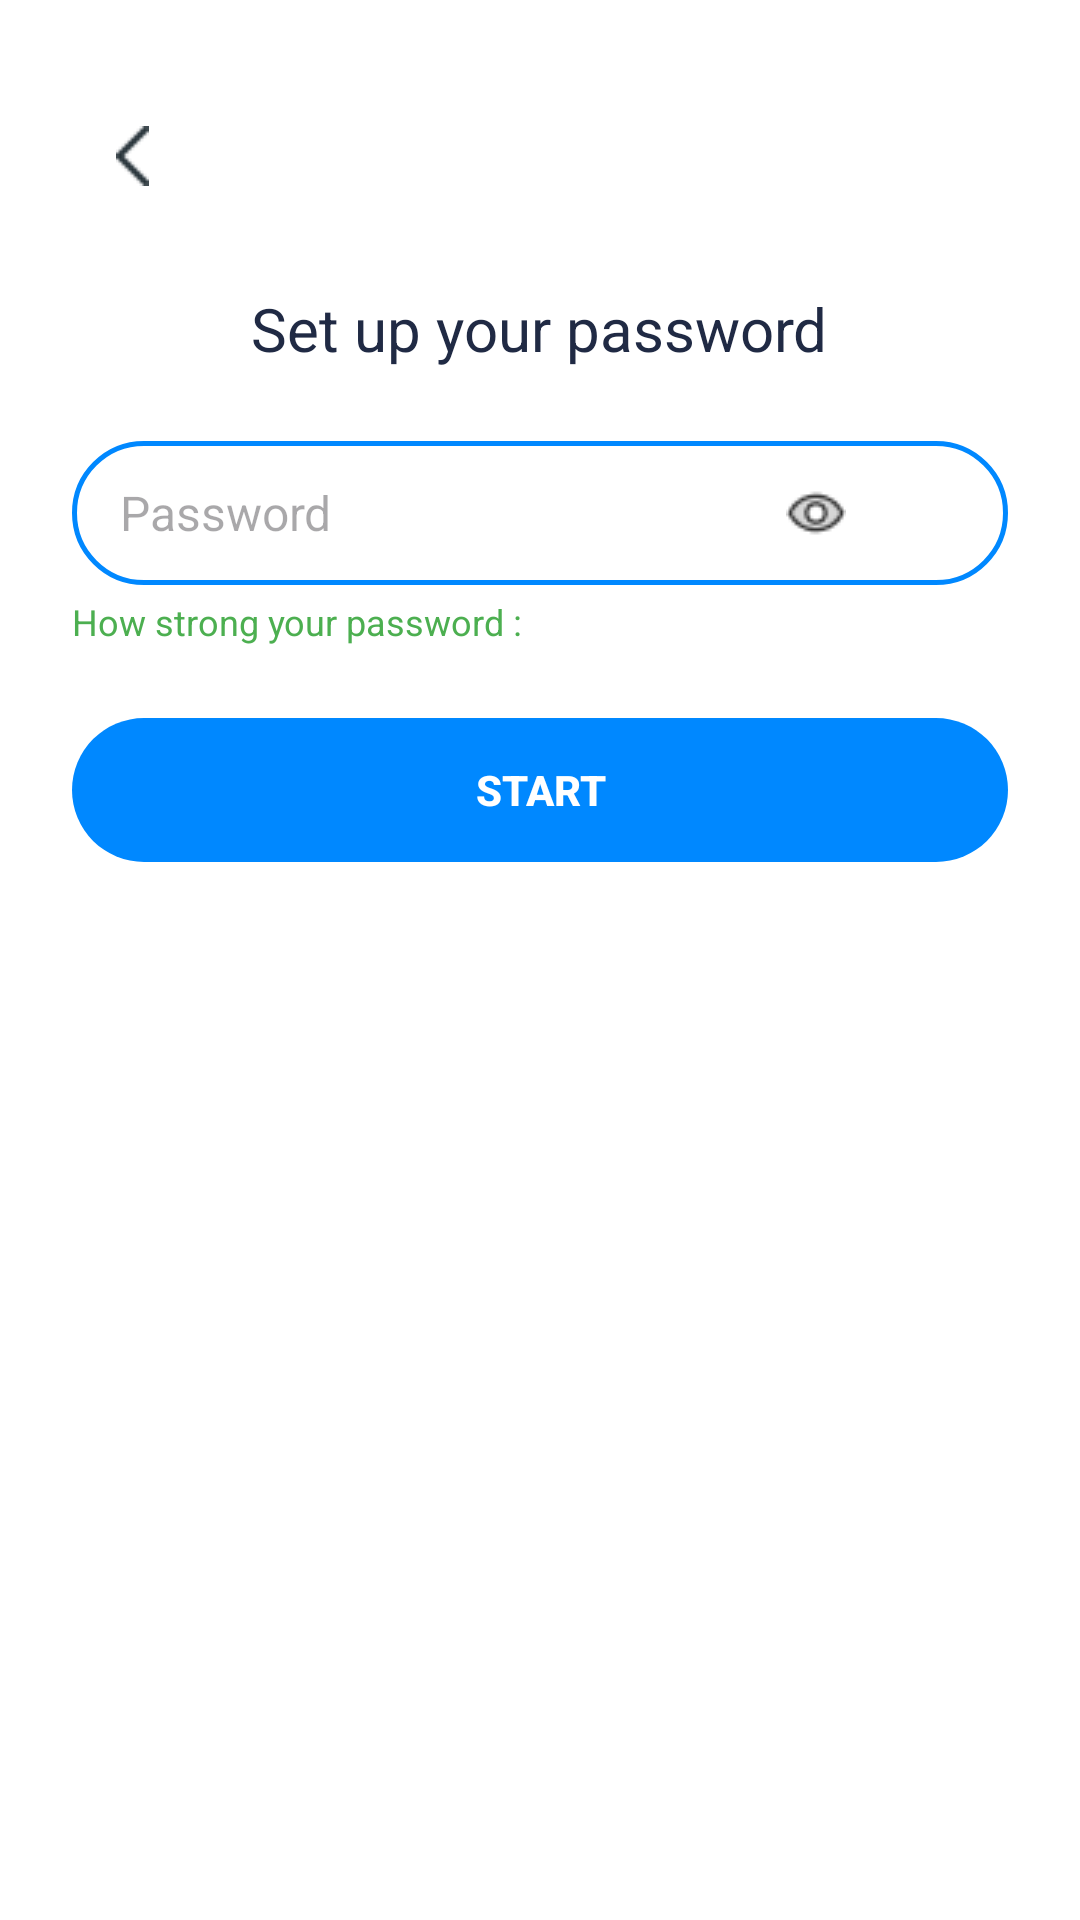

Screen size 1080×1920. Icon name, then its box in pixels as Rect(x1, y1, x2, y2):
Back: Rect(116, 126, 149, 186)
